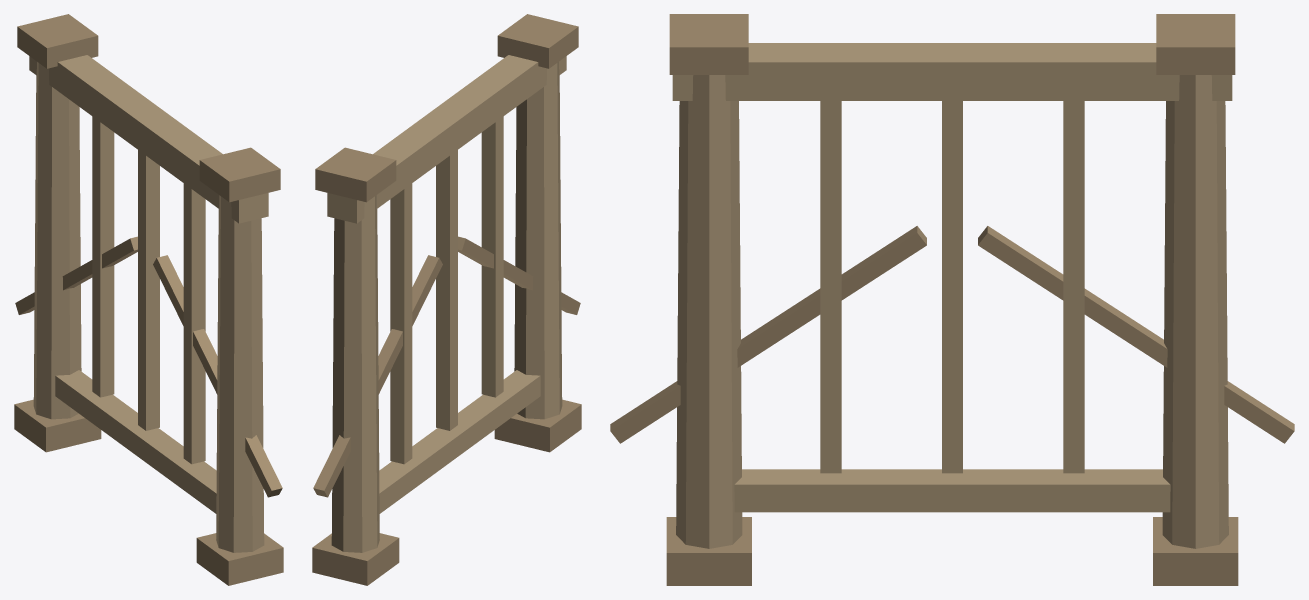
Rendered from railing.glb.
3 renders of one model, left to right at view 1: azimuth 30°, elevation 25°; view 2: azimuth 150°, elevation 25°; view 3: azimuth 270°, elevation 25°, orthographic. The views are drawn at different scales.
Parts seen in each view (by area): view 1: railing; view 2: railing; view 3: railing.
Part boxes in pixels (x1,y1,x2,y2): railing: (14,14,283,585); railing: (312,14,581,585); railing: (610,14,1294,585).
Bounding box in the file's own units: 0.14 × 0.975 × 1.13.
